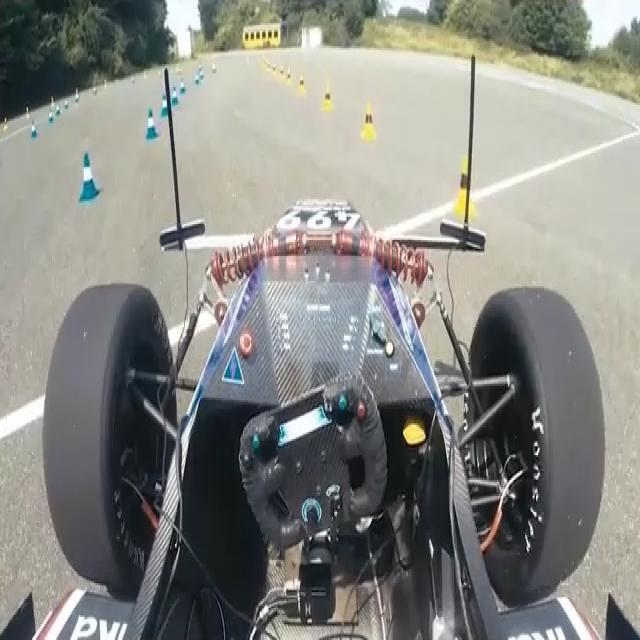blue_cone: (77, 150, 101, 204), (144, 107, 160, 143), (160, 91, 168, 118), (171, 85, 179, 107)
yellow_cone: (452, 154, 476, 220), (362, 103, 378, 142), (322, 82, 335, 112)
